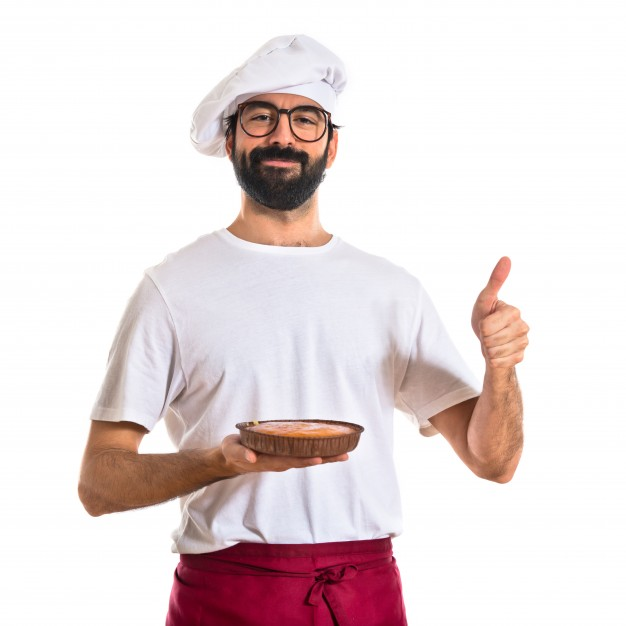thumbsup: (476, 256, 530, 367)
